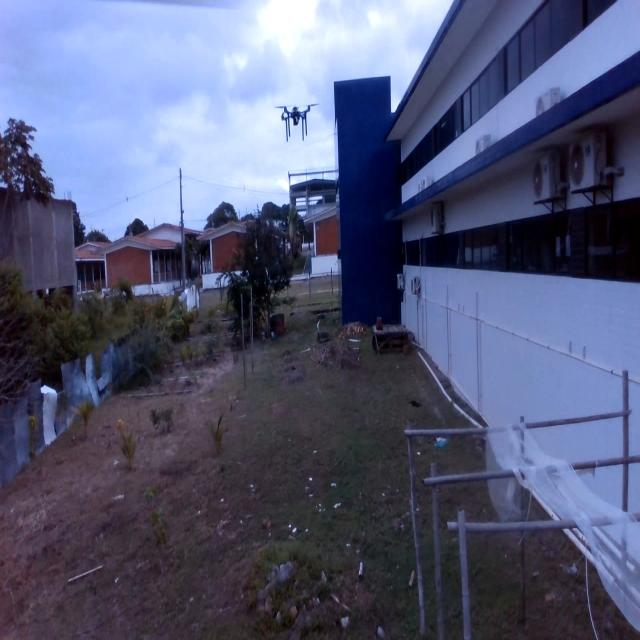-uav-: (270, 98, 324, 146)
